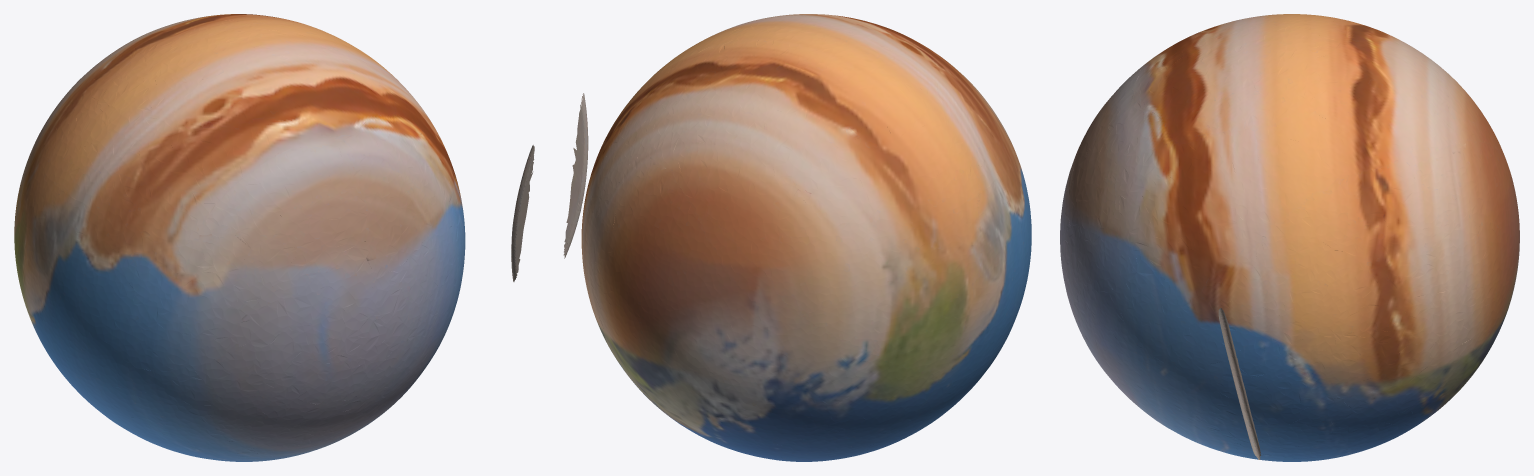
File: planet_6.glb
3 views of the same model, side by side, from view 1: azimuth 30°, elevation 25°; view 2: azimuth 150°, elevation 25°; view 3: azimuth 270°, elevation 25° (orthographic).
Parts seen in each view (by area): view 1: geometry_0; view 2: geometry_0; view 3: geometry_0.
Part boxes in pixels (x1,y1,x2,y2): geometry_0: [14, 14, 534, 461]; geometry_0: [563, 14, 1031, 461]; geometry_0: [1060, 14, 1519, 461].
Bounding box in the file's own units: 0.2961 × 0.2518 × 0.2583.
Materials: 1 (1 with a texture image).
